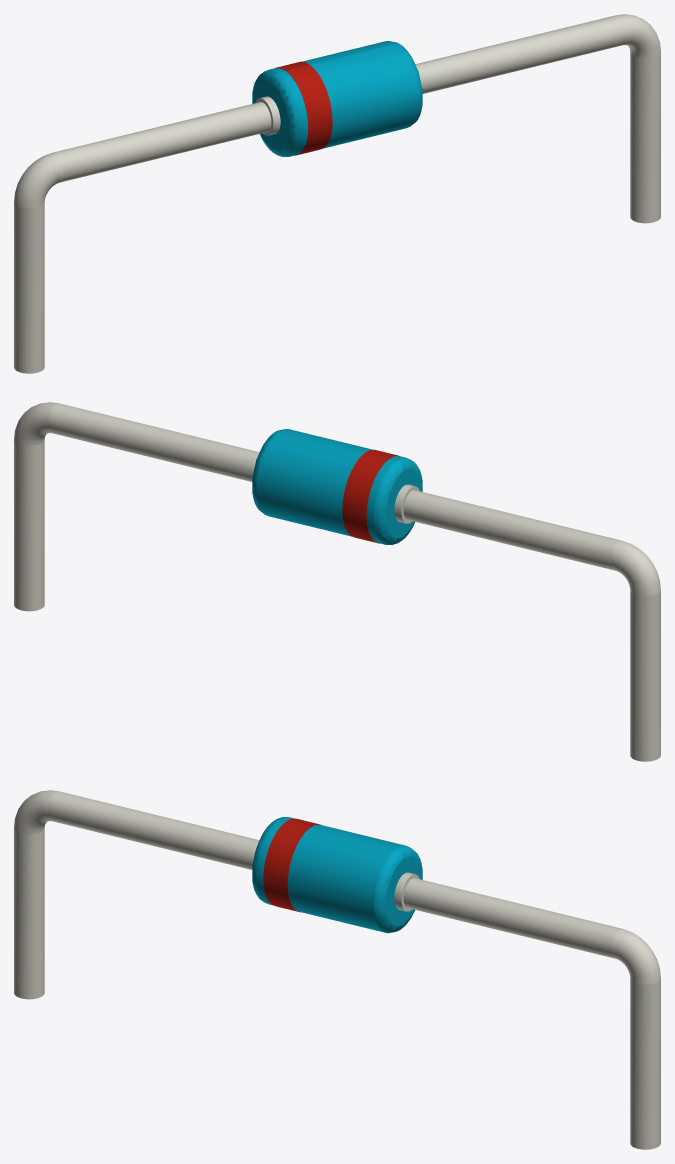
Rendered from kc-d_do-34_sod68_p12.70mm_horizontal.glb.
The picture shows the model from 3 angles, top to bottom: view 1: azimuth 30°, elevation 25°; view 2: azimuth 150°, elevation 25°; view 3: azimuth 330°, elevation 25°; orthographic projection.
Visible parts, largest first — view 1: 0.6666666666666666_0.6666666666666666_0.5833333333333334_0.8, 0_0.3333333333333333_0.5_0, 0.4166666666666667_0_0_0; view 2: 0.6666666666666666_0.6666666666666666_0.5833333333333334_0.8, 0_0.3333333333333333_0.5_0, 0.4166666666666667_0_0_0; view 3: 0.6666666666666666_0.6666666666666666_0.5833333333333334_0.8, 0_0.3333333333333333_0.5_0, 0.4166666666666667_0_0_0.
Boxes of the visible parts, x1=… form: 0.6666666666666666_0.6666666666666666_0.5833333333333334_0.8: x1=14, y1=14, x2=660, y2=373; 0_0.3333333333333333_0.5_0: x1=252, y1=41, x2=422, y2=156; 0.4166666666666667_0_0_0: x1=276, y1=61, x2=332, y2=155; 0.6666666666666666_0.6666666666666666_0.5833333333333334_0.8: x1=14, y1=402, x2=660, y2=761; 0_0.3333333333333333_0.5_0: x1=252, y1=429, x2=422, y2=544; 0.4166666666666667_0_0_0: x1=342, y1=449, x2=398, y2=543; 0.6666666666666666_0.6666666666666666_0.5833333333333334_0.8: x1=14, y1=790, x2=660, y2=1149; 0_0.3333333333333333_0.5_0: x1=252, y1=817, x2=422, y2=933; 0.4166666666666667_0_0_0: x1=263, y1=818, x2=320, y2=912.
Bounding box in the file's own units: 1.33 × 0.4605 × 0.161.
